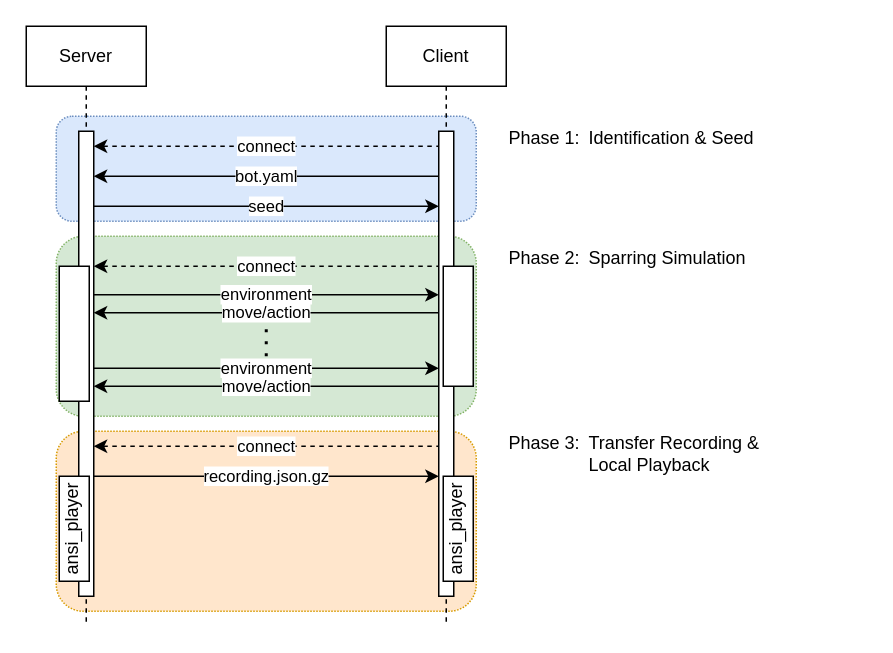
This 893x653 diagram has some shape labels left out. The shapes that lost their labels are listed below. From the top down, each one's centre as x and y in pixels, then its label:
At point (73, 333): "runner & bot".
At point (457, 325): "bot".
